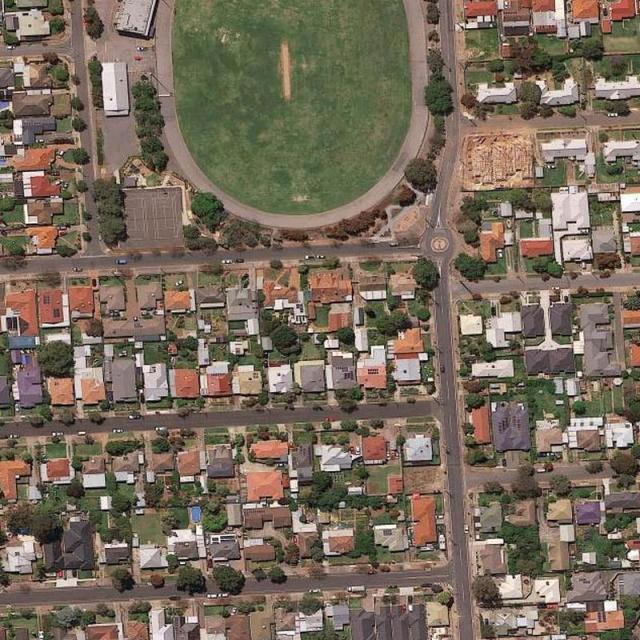vehicle: (346, 584, 366, 593), (439, 534, 446, 550), (534, 467, 549, 473), (218, 591, 229, 598), (307, 589, 322, 594), (50, 430, 62, 436), (111, 428, 123, 434), (129, 414, 141, 420), (230, 608, 238, 616), (62, 182, 69, 191), (57, 223, 66, 230), (91, 278, 98, 287), (606, 111, 618, 116), (464, 524, 470, 534), (115, 260, 126, 265), (73, 267, 84, 272), (497, 248, 502, 259), (274, 462, 285, 467), (306, 254, 315, 260), (175, 280, 184, 286), (154, 426, 167, 430), (206, 593, 216, 598), (9, 433, 19, 438), (551, 286, 561, 291), (440, 364, 446, 372), (58, 150, 64, 158), (137, 46, 146, 51), (34, 138, 45, 142), (15, 402, 19, 413), (5, 45, 15, 49), (50, 171, 58, 176), (78, 430, 86, 435), (386, 451, 390, 461), (222, 260, 231, 264), (234, 259, 242, 263), (317, 254, 325, 258), (395, 451, 399, 459), (356, 447, 359, 454)
